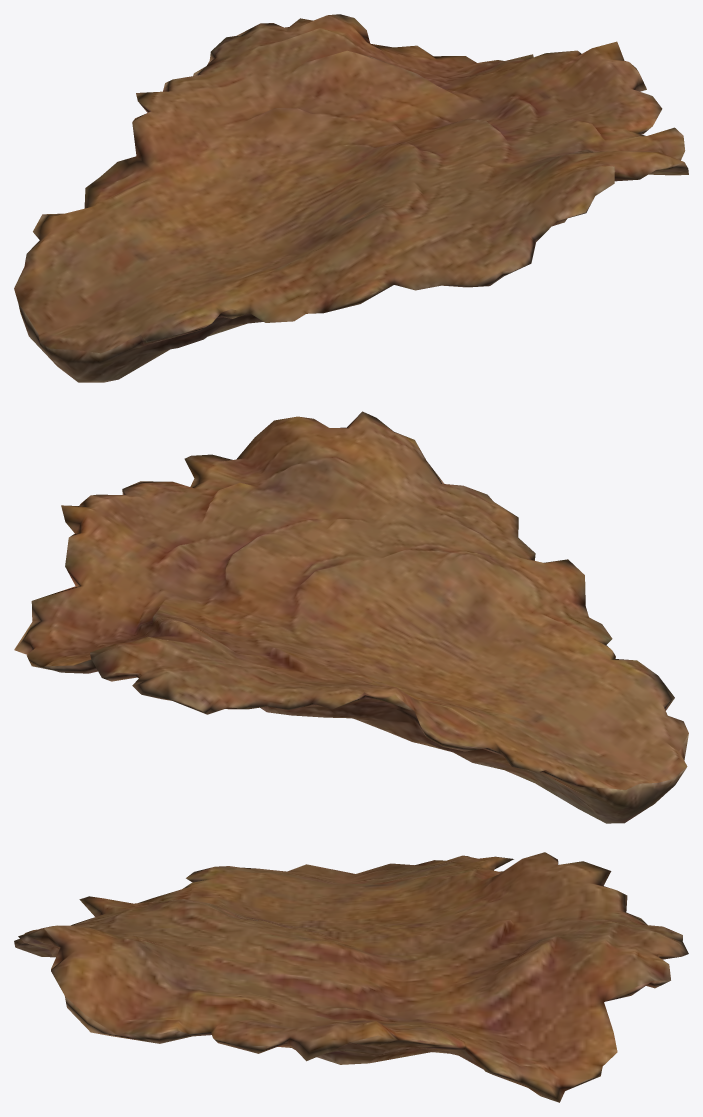
Rendered from Plant - Alien Mushroom Big4-D88kvHpS.glb.
3 views of the same model, one above another, from view 1: azimuth 30°, elevation 25°; view 2: azimuth 150°, elevation 25°; view 3: azimuth 270°, elevation 25° (orthographic). The views are drawn at different scales.
Parts seen in each view (by area): view 1: Mushroom_Big4(Clone); view 2: Mushroom_Big4(Clone); view 3: Mushroom_Big4(Clone).
Boxes of the visible parts, x1=… form: Mushroom_Big4(Clone): x1=14, y1=14, x2=688, y2=382; Mushroom_Big4(Clone): x1=14, y1=411, x2=688, y2=823; Mushroom_Big4(Clone): x1=14, y1=852, x2=688, y2=1102.
Bounding box in the file's own units: 1.73 × 0.5962 × 1.52.
1 material, 1 textured.
